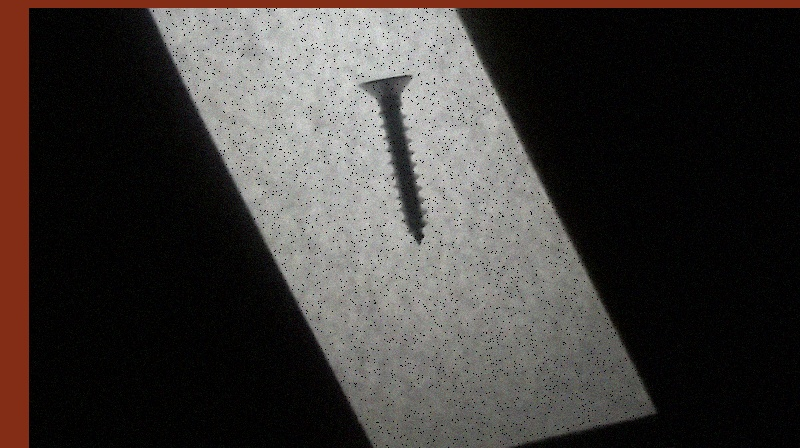S001: (355, 67, 429, 247)
